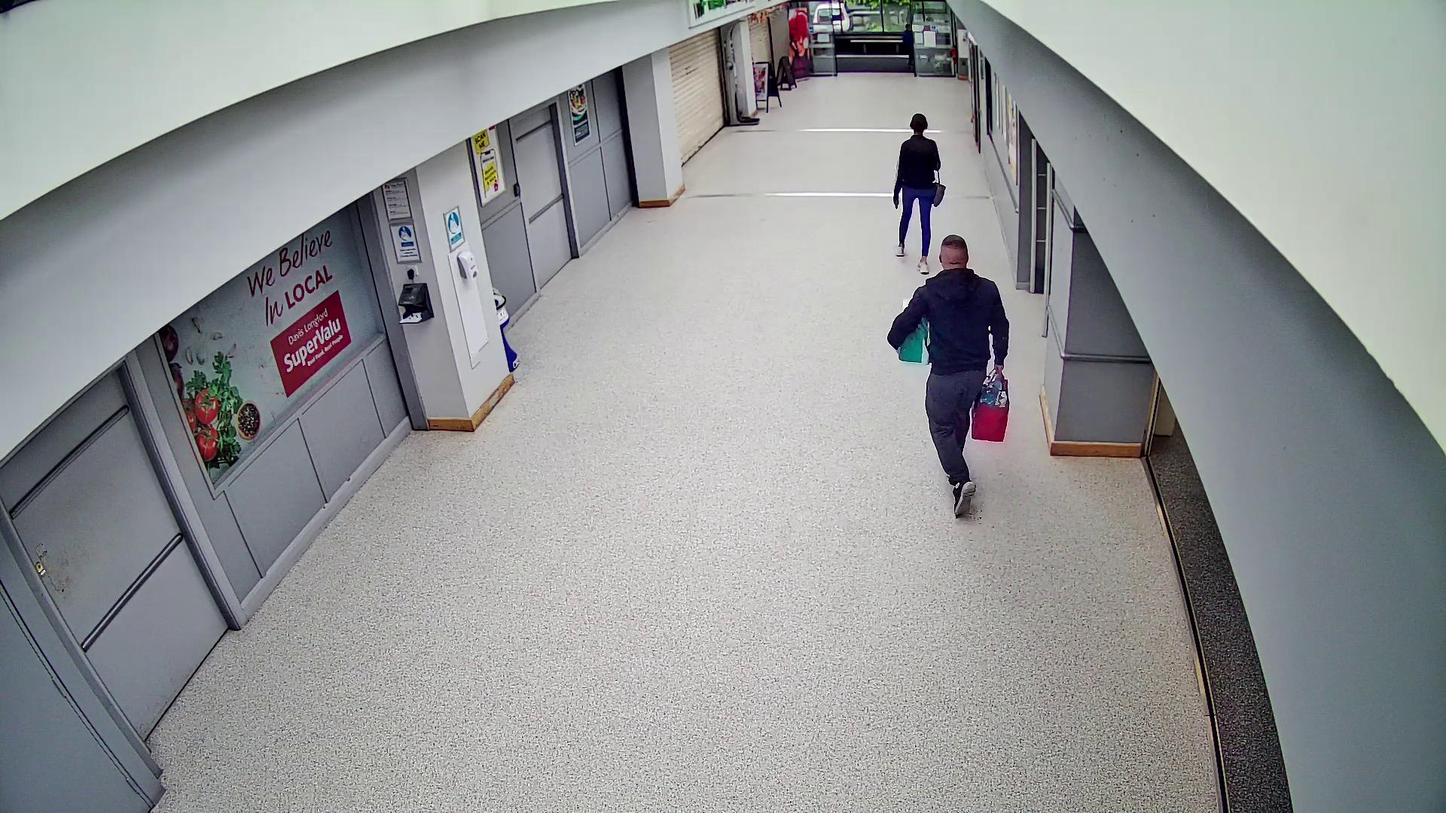backpack-or-handbag: (931, 177, 946, 207)
carrying-item: (896, 299, 929, 364)
filled-shopping-bags: (971, 370, 1009, 442)
person: (887, 232, 1010, 515), (894, 113, 941, 274)
person with carrying item-s- and shopping bag-s-: (887, 231, 1010, 518)
person-with-backpack-handbag: (894, 113, 946, 272)
